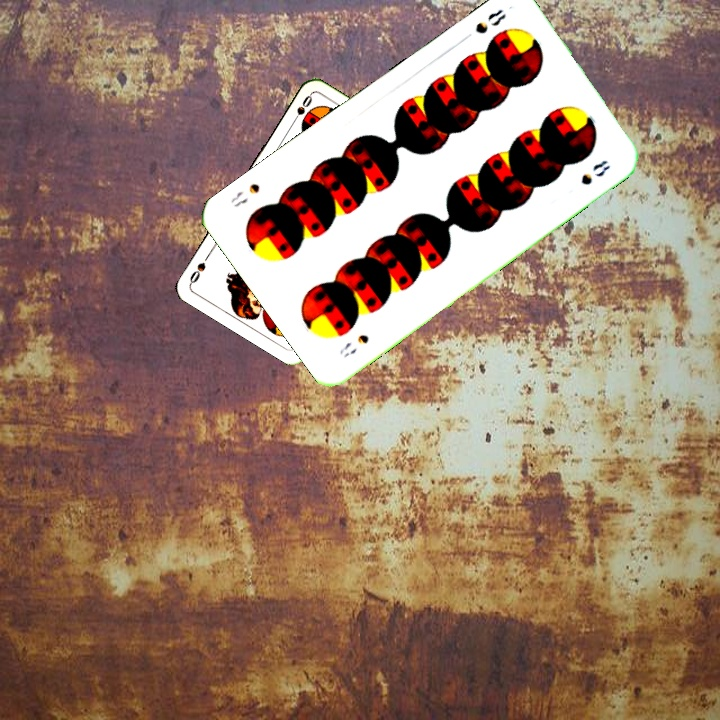S8: (471, 5, 509, 37), (335, 330, 371, 360)
SO: (287, 91, 315, 127)
